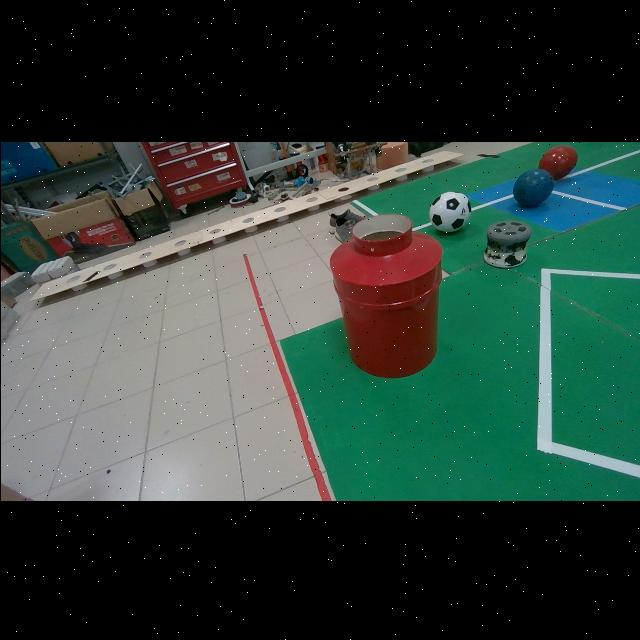B: (512, 167, 553, 206)
R: (537, 143, 577, 178)
